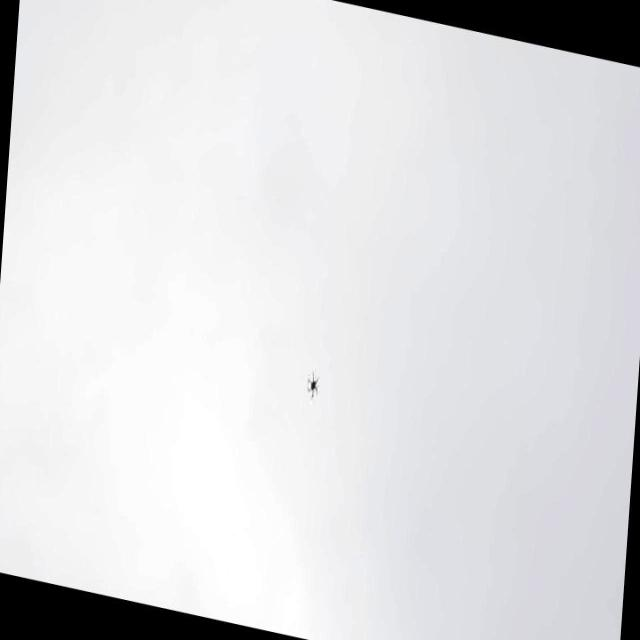drone: (302, 364, 324, 402)
